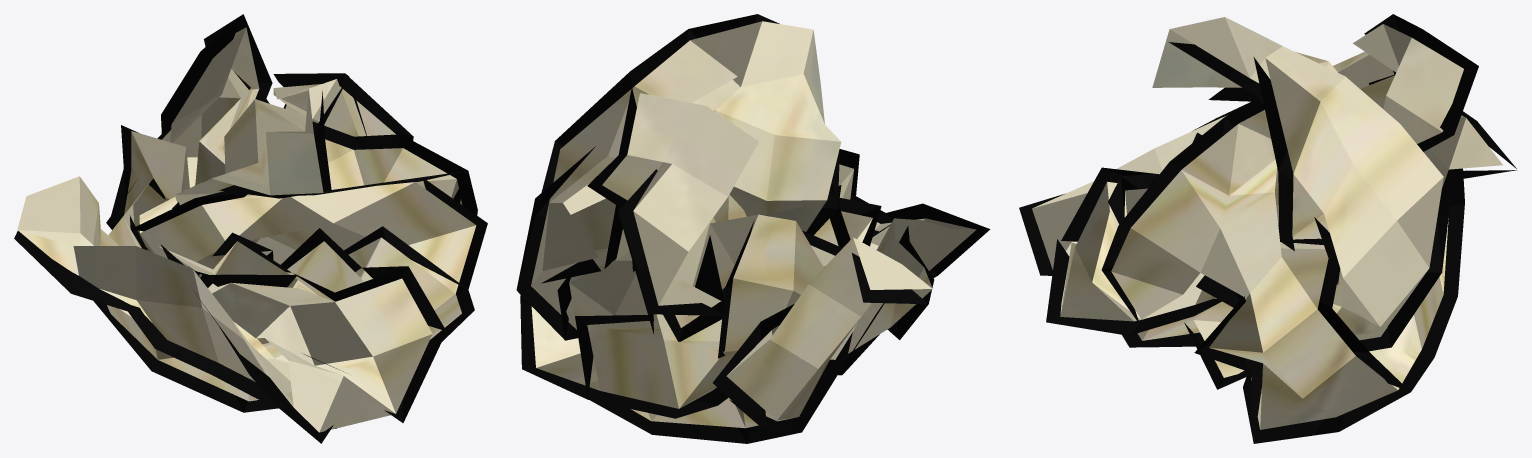
File: Crumpled Paper 2.fbx
3 views of the same model, side by side, from view 1: azimuth 30°, elevation 25°; view 2: azimuth 150°, elevation 25°; view 3: azimuth 270°, elevation 25° (orthographic). The views are drawn at different scales.
Parts seen in each view (by area): view 1: Crumpled Papers.001; view 2: Crumpled Papers.001; view 3: Crumpled Papers.001.
Boxes of the visible parts, x1,y1,x2,y2 form: Crumpled Papers.001: [14, 14, 487, 443]; Crumpled Papers.001: [516, 14, 990, 443]; Crumpled Papers.001: [1019, 14, 1516, 443].
Bounding box in the file's own units: 16.16 × 16.12 × 13.84.
